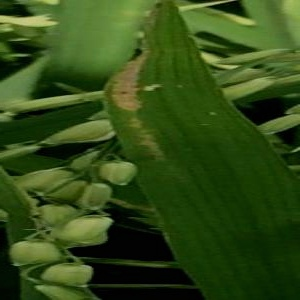Leaf_Blast: (111, 10, 220, 165)
